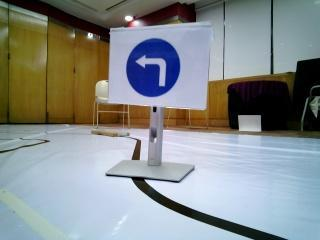left: (110, 28, 208, 111)
